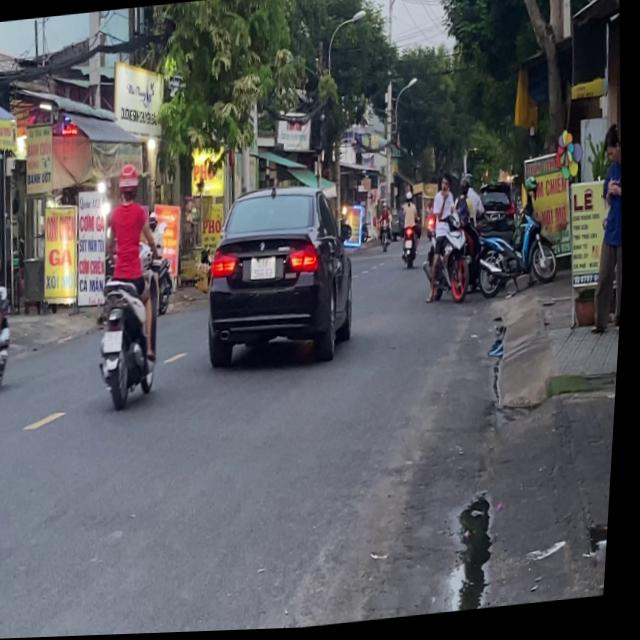helmet: (115, 162, 142, 203)
licenseplate: (86, 158, 176, 410), (0, 187, 26, 398)
nohelmet: (106, 330, 126, 353)
